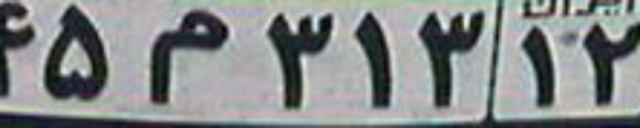1: (345, 9, 395, 109), (516, 25, 556, 104)
2: (583, 20, 635, 107)
3: (264, 10, 336, 111), (416, 7, 483, 109)
4: (0, 3, 40, 99)
5: (44, 1, 113, 100)
mim: (147, 6, 230, 103)
